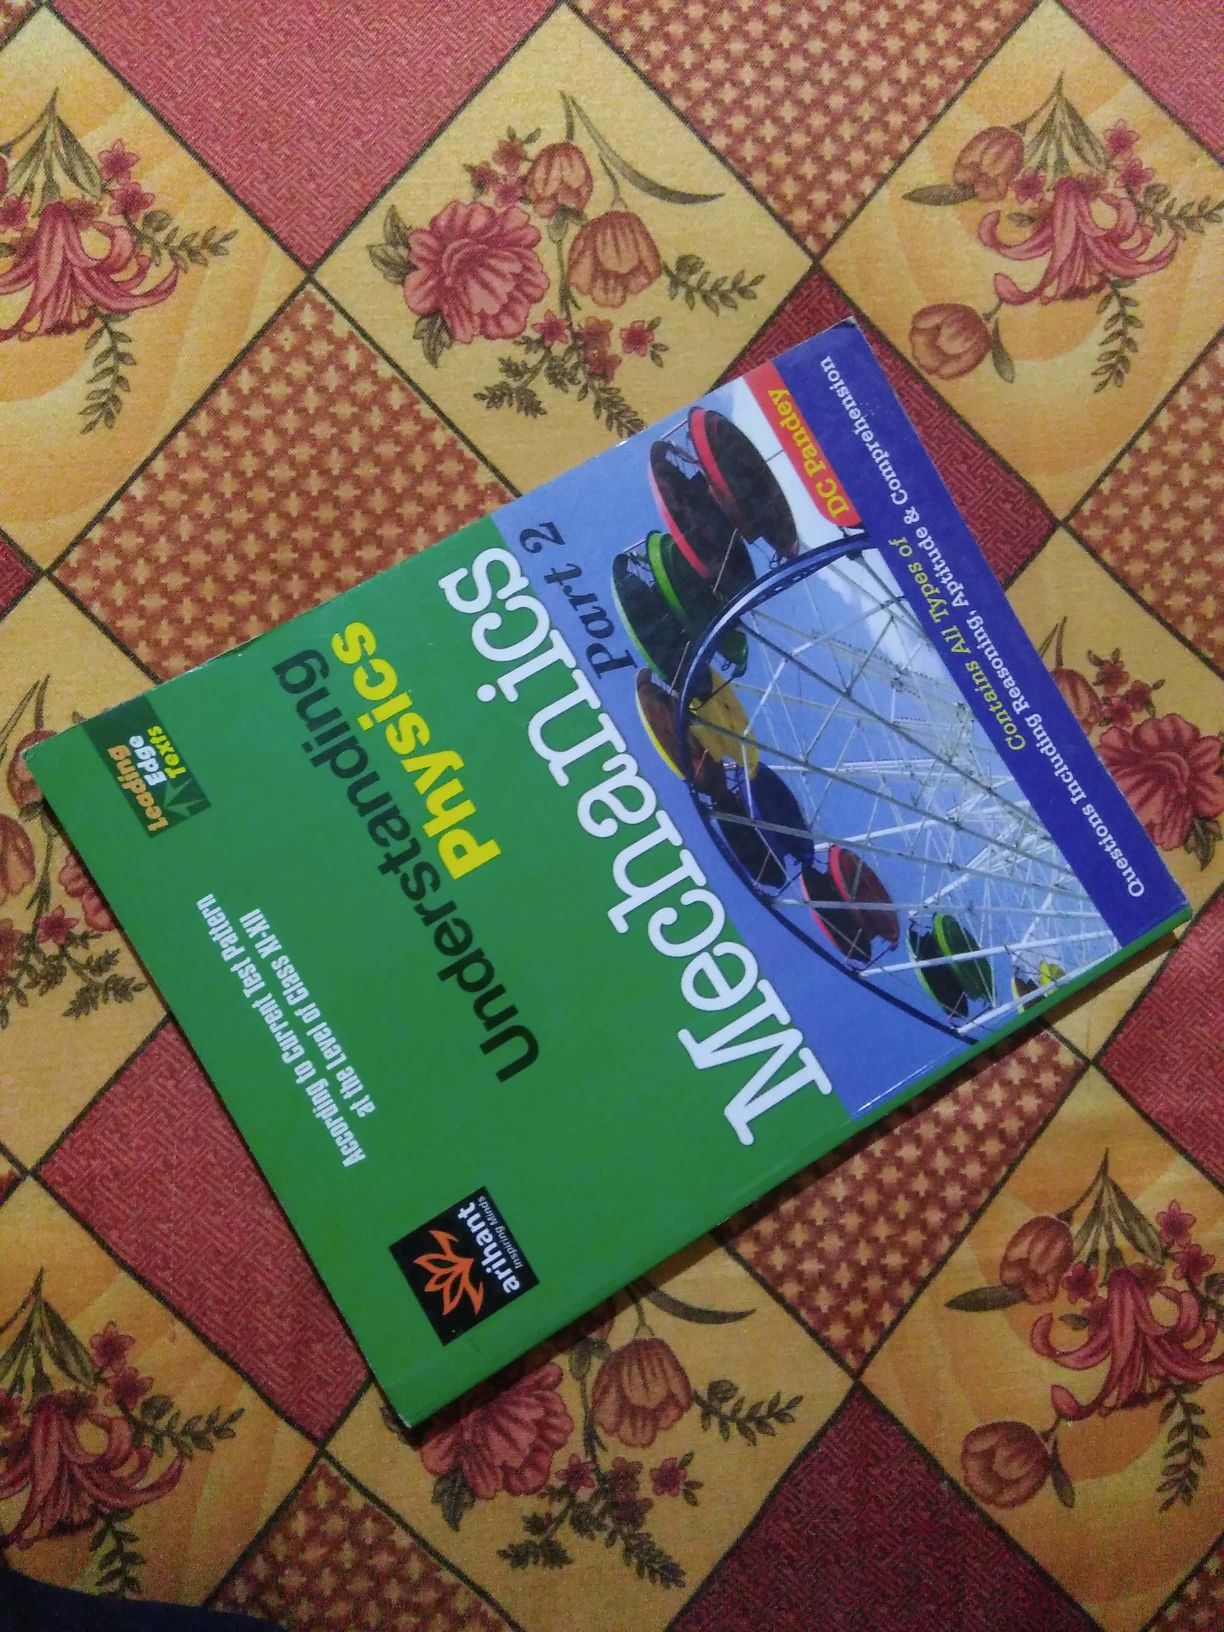mechanics: (21, 398, 1209, 1388)
